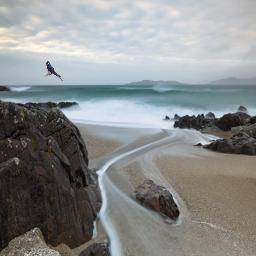Swallow: (45, 61, 63, 82)
